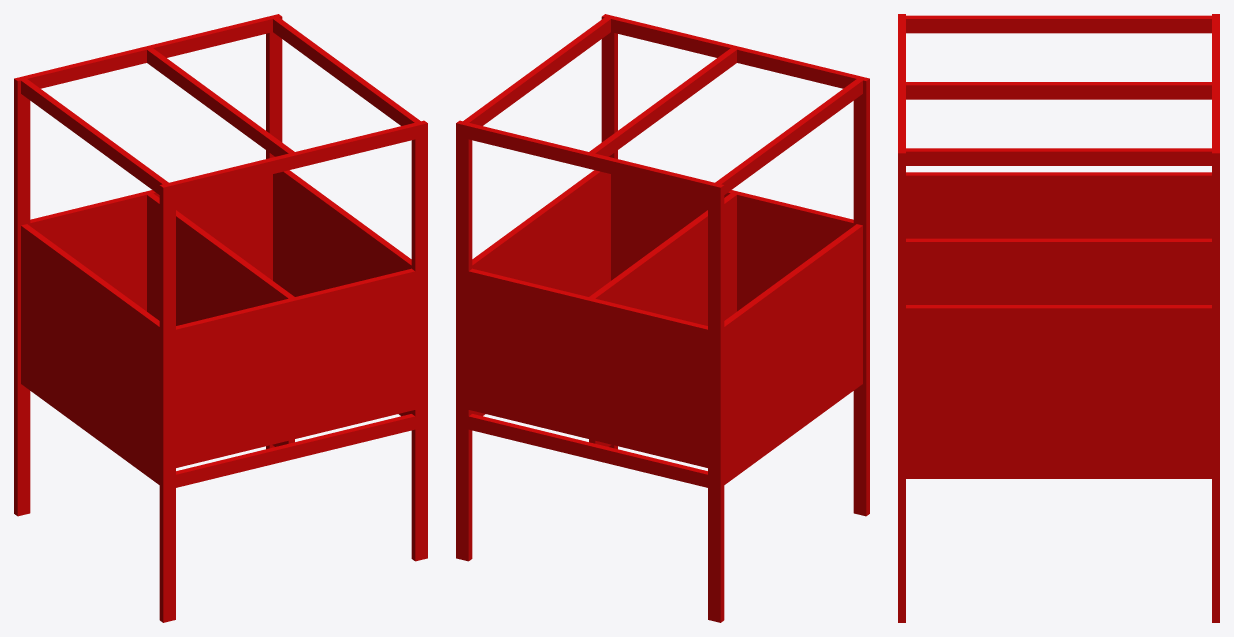
3 views of the same model, side by side, from view 1: azimuth 30°, elevation 25°; view 2: azimuth 150°, elevation 25°; view 3: azimuth 270°, elevation 25° (orthographic). The views are drawn at different scales.
Parts seen in each view (by area): view 1: Layer_02, Layer_01; view 2: Layer_02, Layer_01; view 3: Layer_02, Layer_01.
Boxes of the visible parts, left/top/right/bottom form: Layer_02: left=21, top=177, right=415, bottom=471; Layer_01: left=14, top=14, right=427, bottom=622; Layer_02: left=468, top=177, right=862, bottom=471; Layer_01: left=456, top=14, right=869, bottom=622; Layer_02: left=906, top=189, right=1211, bottom=464; Layer_01: left=898, top=14, right=1219, bottom=622.
Size of the model in its own units: 6.3 by 9.9 by 6.15.
